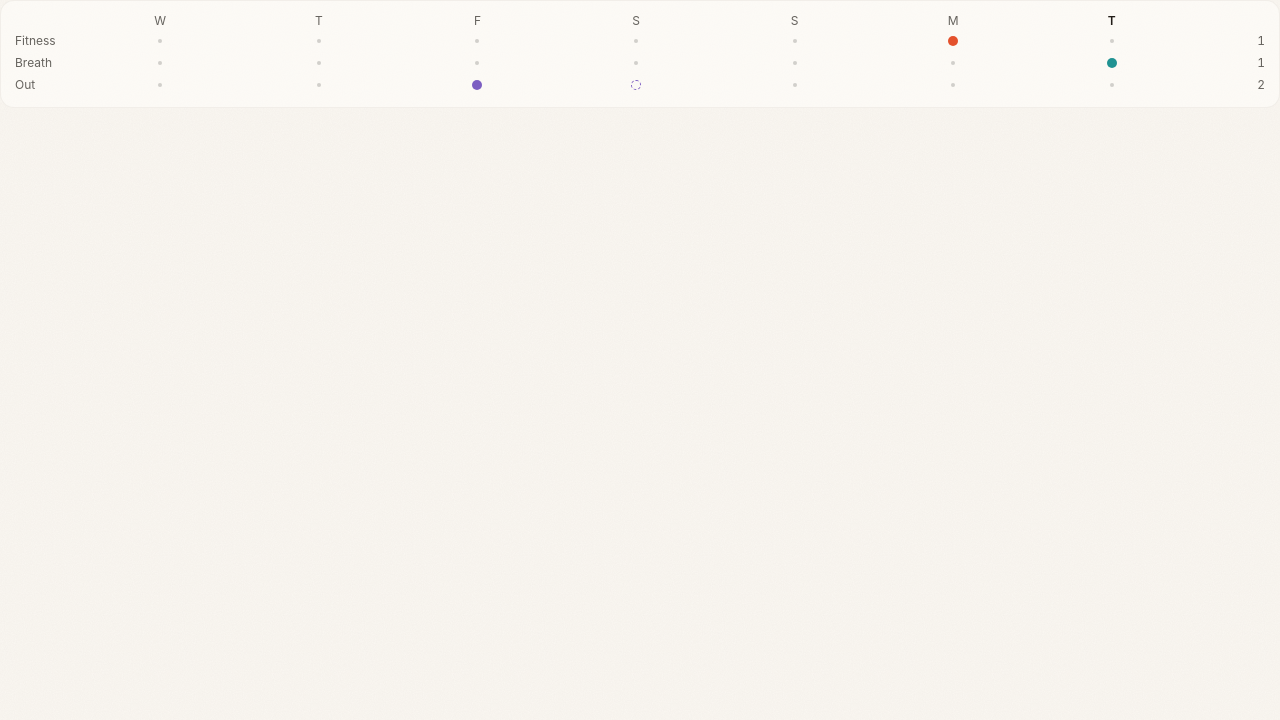
Test: the week strip › opens a family's sub-types, and not the Health page
Click the button with test id "health-row-name" showing "Fitness" at x=47, y=41, box [15,33,79,49]
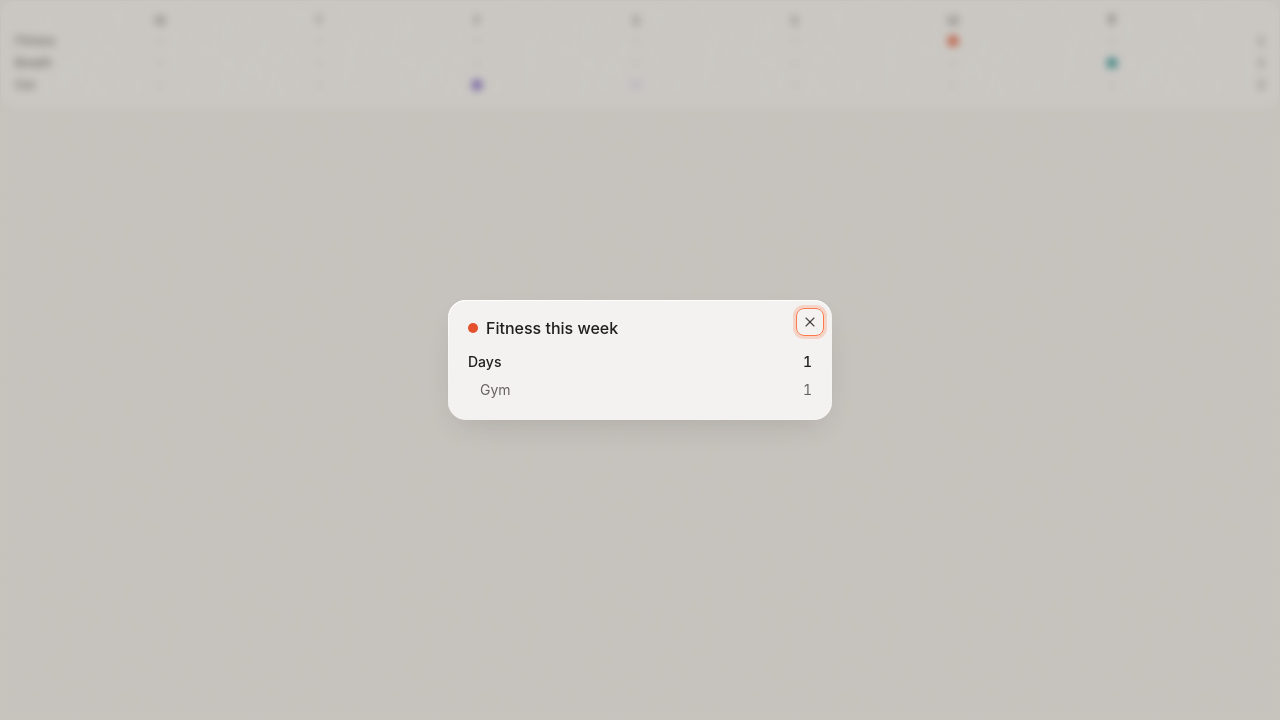
Expected: the dialog with test id "health-breakdown" shows "Fitness this week", [486,318,618,338]
